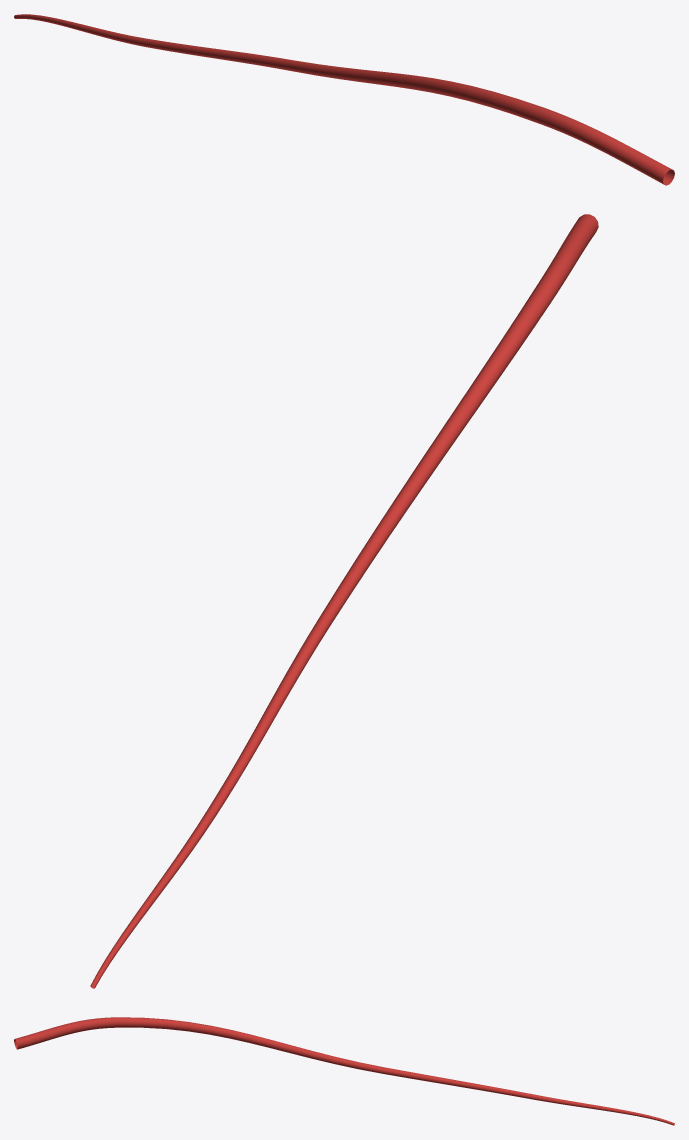
3 renders of one model, top to bottom at view 1: azimuth 30°, elevation 25°; view 2: azimuth 150°, elevation 25°; view 3: azimuth 270°, elevation 25°, orthographic. The views are drawn at different scales.
Parts seen in each view (by area): view 1: 右侧骨间后动脉; view 2: 右侧骨间后动脉; view 3: 右侧骨间后动脉.
Boxes of the visible parts, left/top/right/bottom form: 右侧骨间后动脉: left=14, top=14, right=674, bottom=185; 右侧骨间后动脉: left=90, top=214, right=598, bottom=988; 右侧骨间后动脉: left=14, top=1017, right=674, bottom=1125.
Size of the model in its own units: 0.0278 by 0.041 by 0.182.
